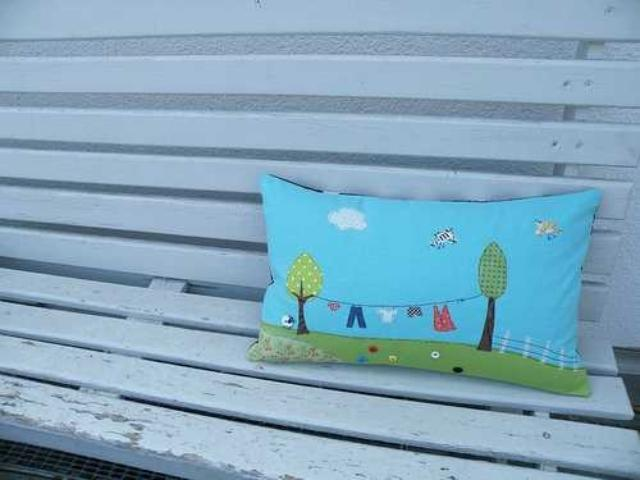pillow: (245, 172, 603, 396)
